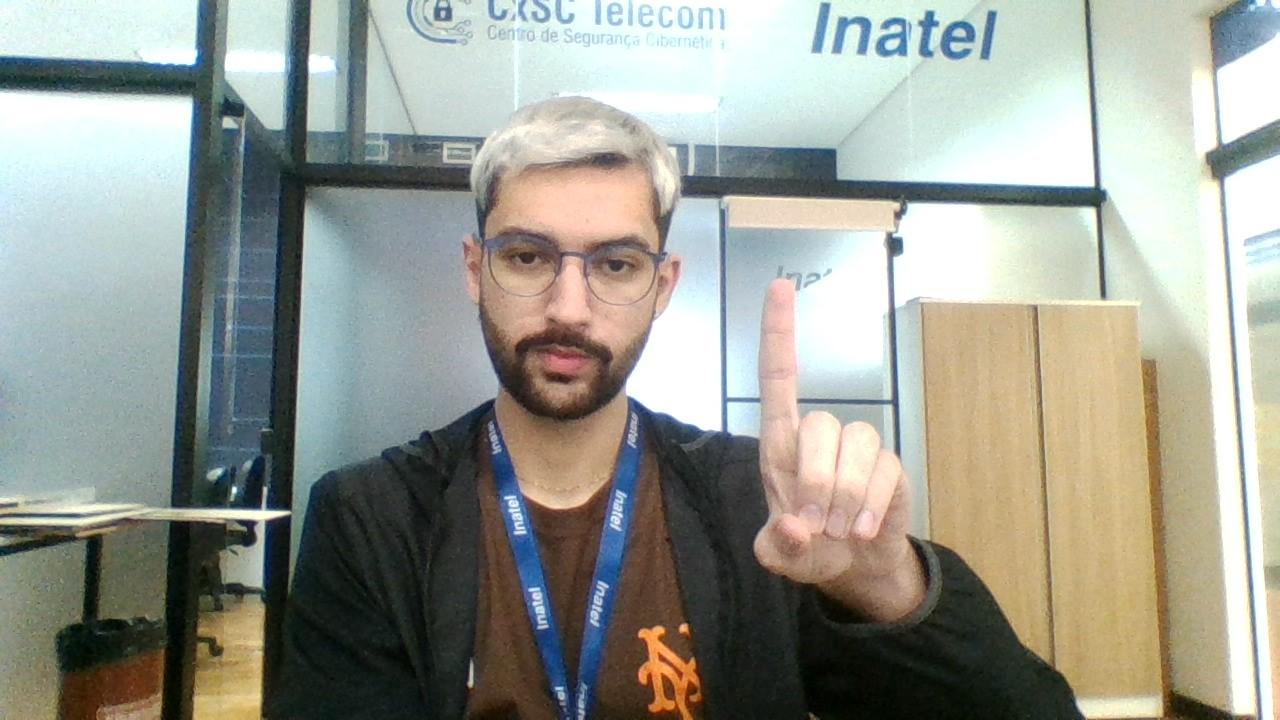D2: (738, 270, 918, 608)
